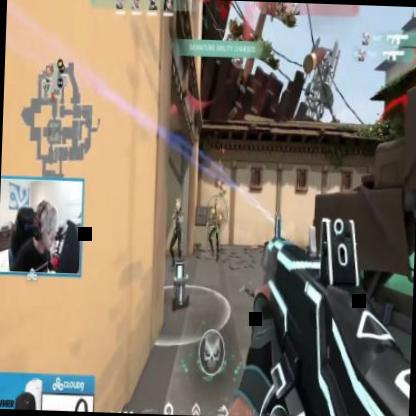enemy: (168, 198, 184, 272), (205, 208, 222, 266)
enemy_head: (175, 200, 180, 212), (211, 208, 216, 218)
